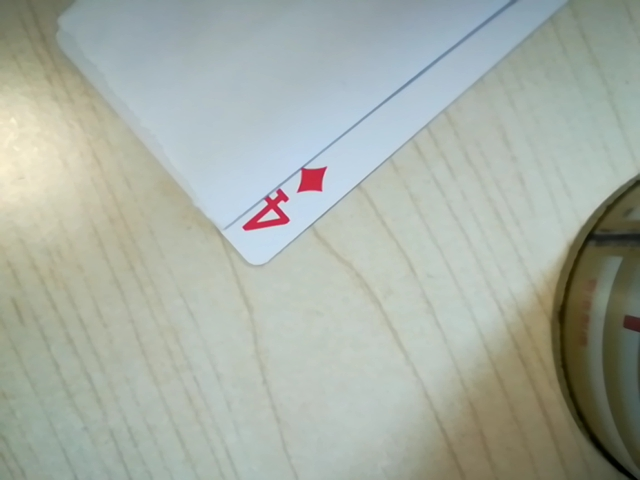fk 4: (229, 162, 331, 241)
